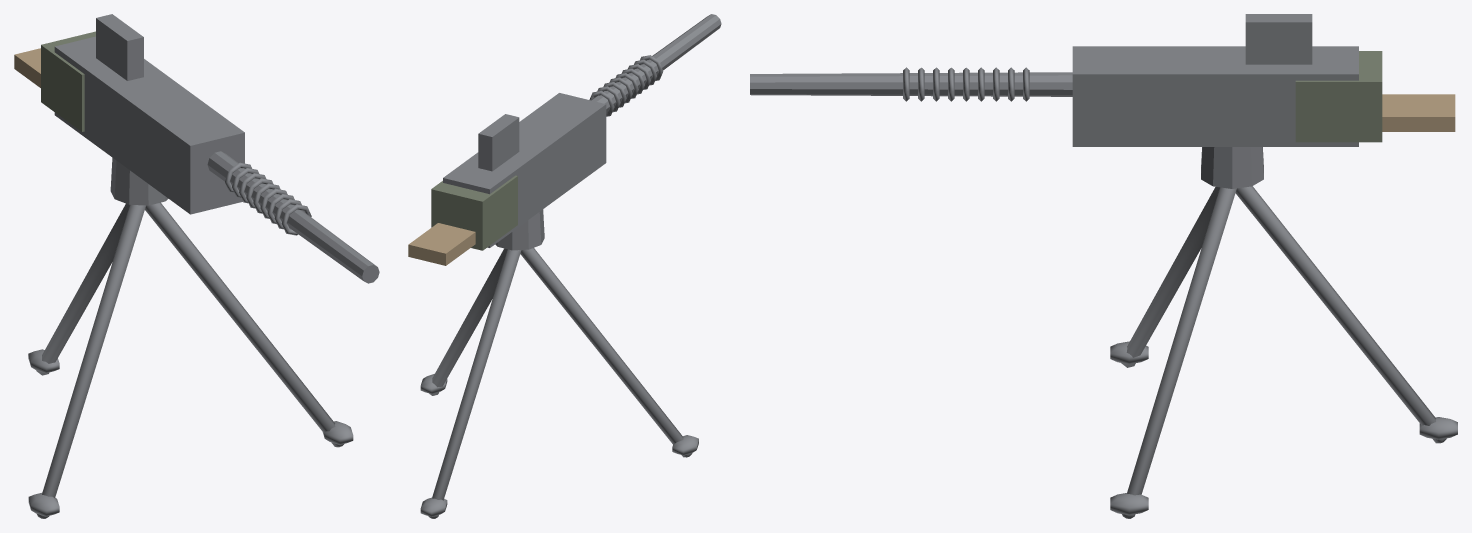
The model's file is armoured-column-and-field-camp-heavy-machine-gun-b59bb4f3__23682.glb.
3 views of the same model, side by side, from view 1: azimuth 30°, elevation 25°; view 2: azimuth 150°, elevation 25°; view 3: azimuth 270°, elevation 25° (orthographic). The views are drawn at different scales.
Parts seen in each view (by area): view 1: heavy-machine-gun; view 2: heavy-machine-gun; view 3: heavy-machine-gun.
Part boxes in pixels (left/top/right/bottom): heavy-machine-gun: left=14, top=14, right=379, bottom=518; heavy-machine-gun: left=408, top=14, right=721, bottom=518; heavy-machine-gun: left=750, top=14, right=1457, bottom=518.
Bounding box in the file's own units: 1.17 × 1.41 × 2.13.
